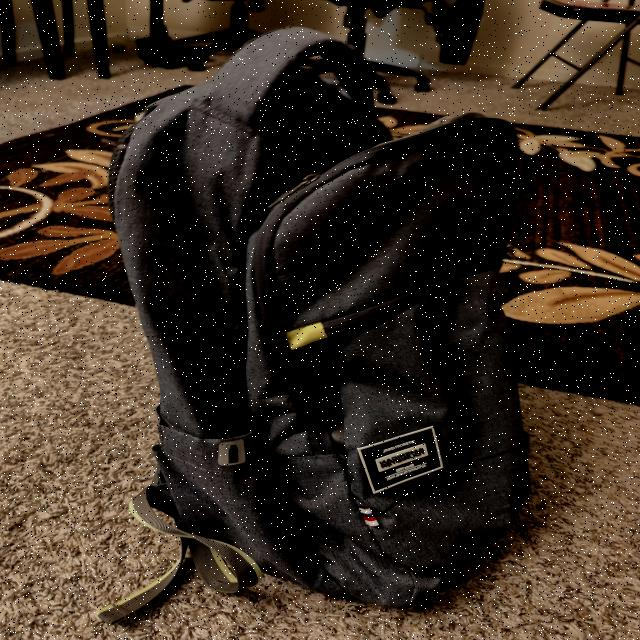bag: (111, 29, 519, 614)
